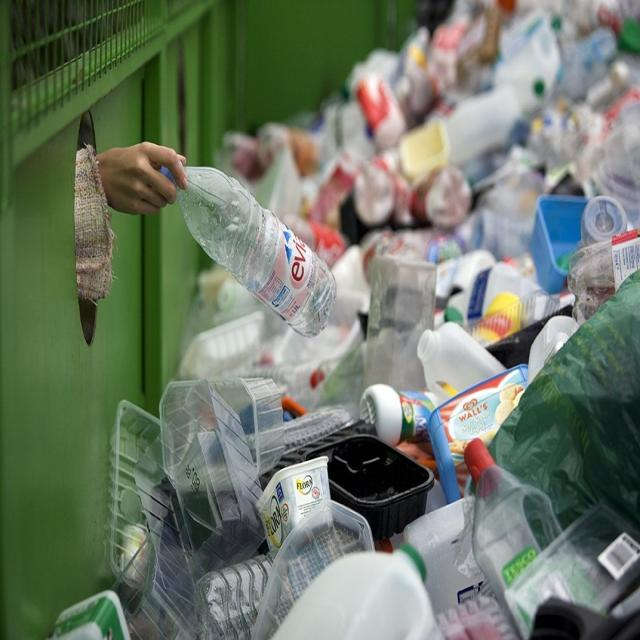plastic_bottle: (165, 163, 338, 339)
